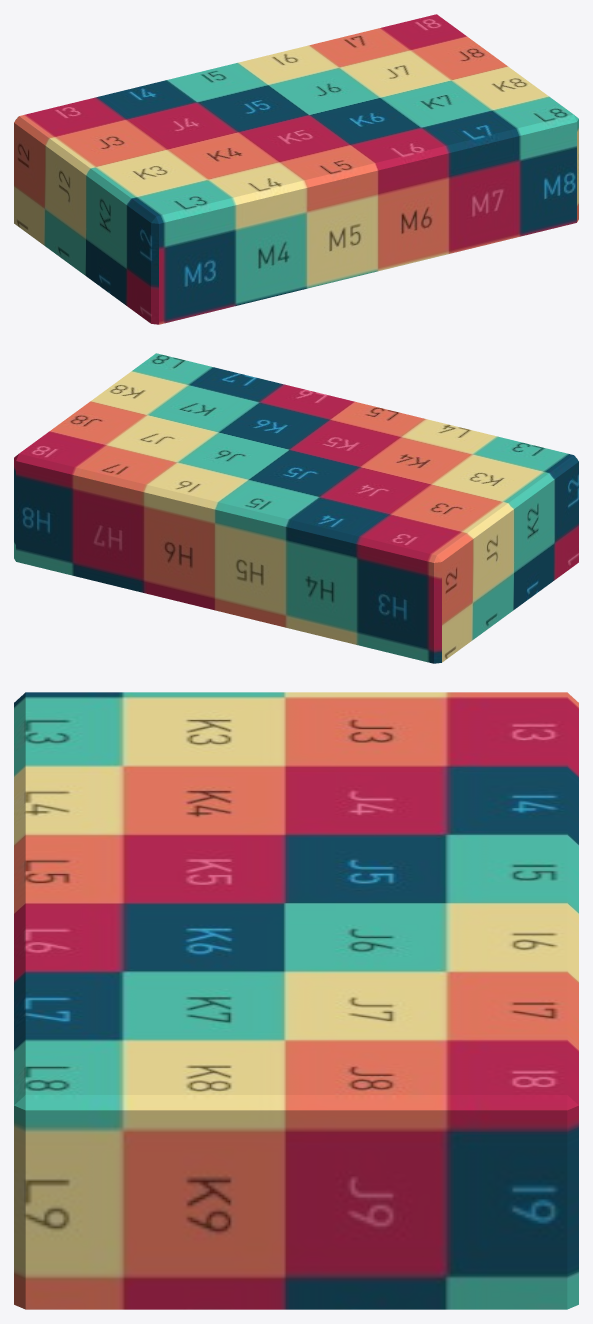
File: bgame_3.fbx
3 renders of one model, top to bottom at view 1: azimuth 30°, elevation 25°; view 2: azimuth 150°, elevation 25°; view 3: azimuth 270°, elevation 25°, orthographic. The views are drawn at different scales.
Parts seen in each view (by area): view 1: bored_game6; view 2: bored_game6; view 3: bored_game6.
Part boxes in pixels (left/top/right/bottom): bored_game6: left=14, top=14, right=578, bottom=324; bored_game6: left=14, top=353, right=578, bottom=663; bored_game6: left=14, top=692, right=578, bottom=1309.
Bounding box in the file's own units: 32.1 × 7.61 × 18.59.
